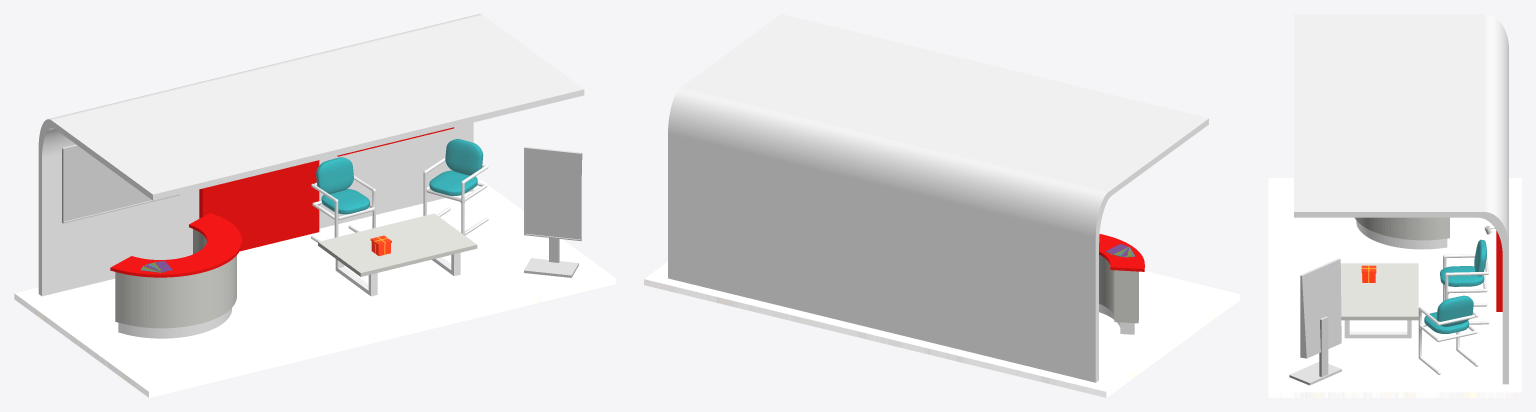
Rendered from Exhibition-booth-wide-curl-991003.glb.
The picture shows the model from 3 angles, left to right: view 1: azimuth 30°, elevation 25°; view 2: azimuth 150°, elevation 25°; view 3: azimuth 270°, elevation 25°; orthographic projection. The views are drawn at different scales.
Visible parts, largest first — view 1: Plane.003, Plane, Plane.004, Circle, Cube.013, Cube.002, Cube.005, Circle.001, Circle.002, Cube.012, Cube.009, Cube.010 (+5 smaller); view 2: Plane.003, Plane, Circle, Circle.001; view 3: Plane.003, Plane, Cube.013, Cube.002, Circle, Cube.010, Circle.002, Cube, Cube.012, Cube.008, Cube.015, Cube.003 (+4 smaller).
Part boxes in pixels (x1=…): Plane.003: x1=38, y1=14, x2=584, y2=296; Plane: x1=14, y1=179, x2=615, y2=397; Plane.004: x1=199, y1=160, x2=319, y2=251; Circle: x1=115, y1=229, x2=236, y2=328; Cube.013: x1=318, y1=213, x2=477, y2=276; Cube.002: x1=524, y1=146, x2=582, y2=241; Cube.005: x1=62, y1=144, x2=179, y2=223; Circle.001: x1=110, y1=213, x2=241, y2=277; Circle.002: x1=118, y1=308, x2=231, y2=338; Cube.012: x1=445, y1=139, x2=483, y2=175; Cube.009: x1=316, y1=157, x2=353, y2=193; Cube.010: x1=423, y1=157, x2=488, y2=235; Plane.003: x1=668, y1=14, x2=1208, y2=382; Plane: x1=644, y1=262, x2=1239, y2=397; Circle: x1=1099, y1=254, x2=1138, y2=323; Circle.001: x1=1099, y1=234, x2=1144, y2=271; Plane.003: x1=1294, y1=14, x2=1508, y2=384; Plane: x1=1268, y1=178, x2=1521, y2=397; Cube.013: x1=1340, y1=263, x2=1418, y2=320; Cube.002: x1=1300, y1=258, x2=1341, y2=358; Circle: x1=1355, y1=217, x2=1449, y2=240; Cube.010: x1=1418, y1=307, x2=1478, y2=374; Circle.002: x1=1356, y1=220, x2=1447, y2=249; Cube: x1=1443, y1=254, x2=1489, y2=324; Cube.012: x1=1436, y1=295, x2=1473, y2=326; Cube.008: x1=1440, y1=266, x2=1484, y2=286; Cube.015: x1=1344, y1=320, x2=1411, y2=338; Cube.003: x1=1289, y1=362, x2=1341, y2=385.
Size of the model in its own units: 8 by 3.1 by 4.
Materials: 12 (1 with a texture image).
